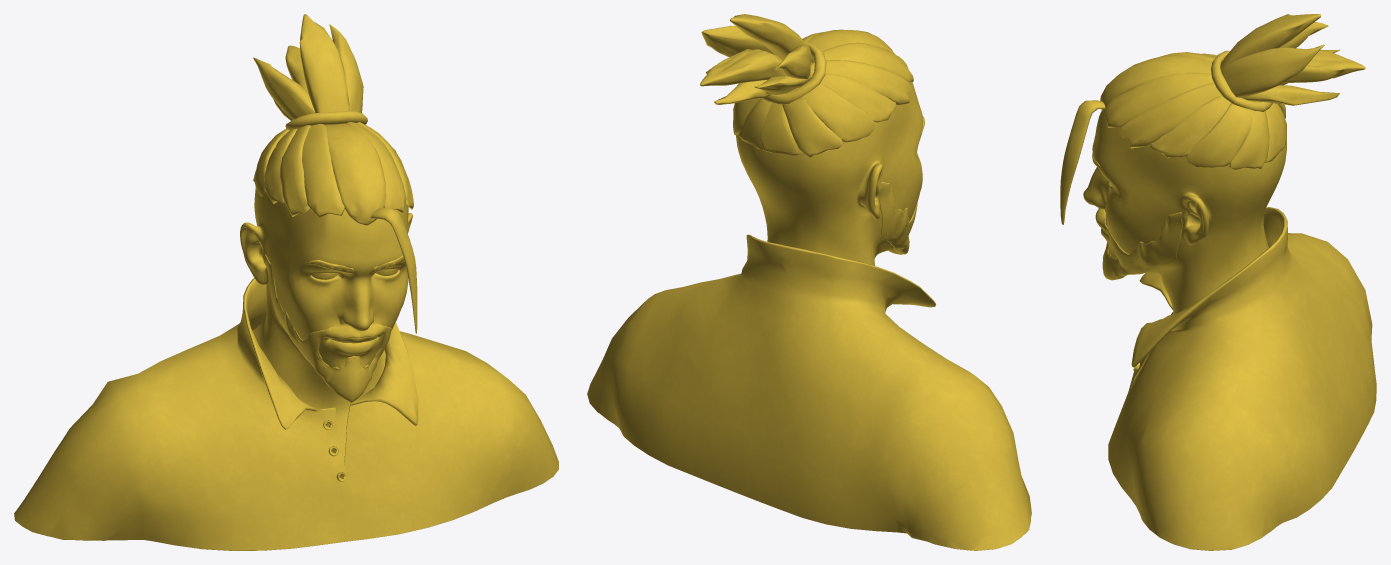
File: Liquid_New_6.glb
3 renders of one model, left to right at view 1: azimuth 30°, elevation 25°; view 2: azimuth 150°, elevation 25°; view 3: azimuth 270°, elevation 25°, orthographic. The views are drawn at different scales.
Visible parts, largest first — view 1: HANZ_Face_LP1.001; view 2: HANZ_Face_LP1.001; view 3: HANZ_Face_LP1.001.
Boxes of the visible parts, x1,y1,x2,y2 form: HANZ_Face_LP1.001: (14, 14, 558, 550); HANZ_Face_LP1.001: (587, 14, 1031, 550); HANZ_Face_LP1.001: (1060, 14, 1376, 550).
Size of the model in its own units: 5.73 by 5.18 by 3.33.
1 material, 1 textured.
